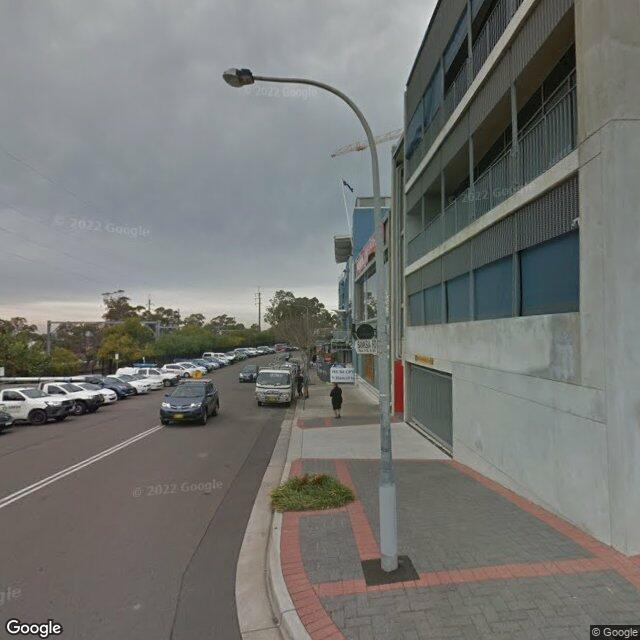HV-transmission: (255, 286, 265, 305), (145, 294, 155, 310)
steel-pole: (369, 143, 397, 572)
streetlight: (222, 66, 374, 144), (287, 303, 307, 309)
timber-pole: (259, 293, 261, 333), (149, 299, 151, 312)
